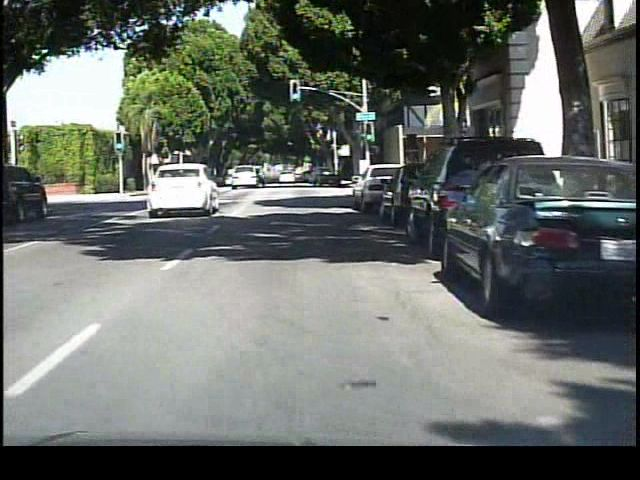car: (446, 149, 637, 350), (404, 129, 450, 263), (145, 159, 221, 222), (1, 157, 50, 223), (376, 157, 413, 227), (353, 162, 382, 209), (228, 165, 261, 189)
